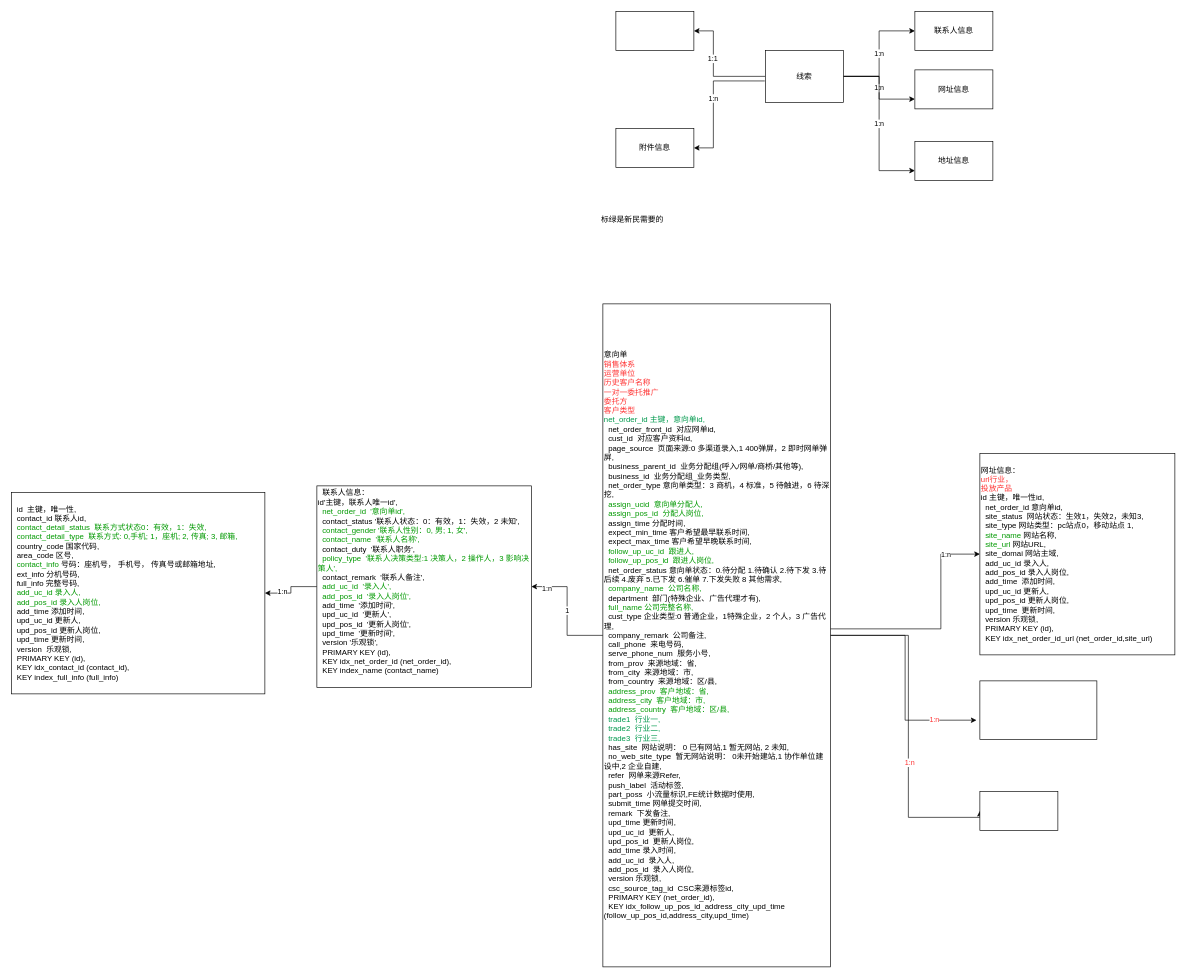
This 1186x978 diagram has some shape labels left out. Each missing label, with the box of its shape:
地址信息： 详细地址 地址类型: (979, 680, 1097, 739)
归属信息: (615, 11, 694, 50)
附件信息 附件名称: (979, 791, 1058, 830)
